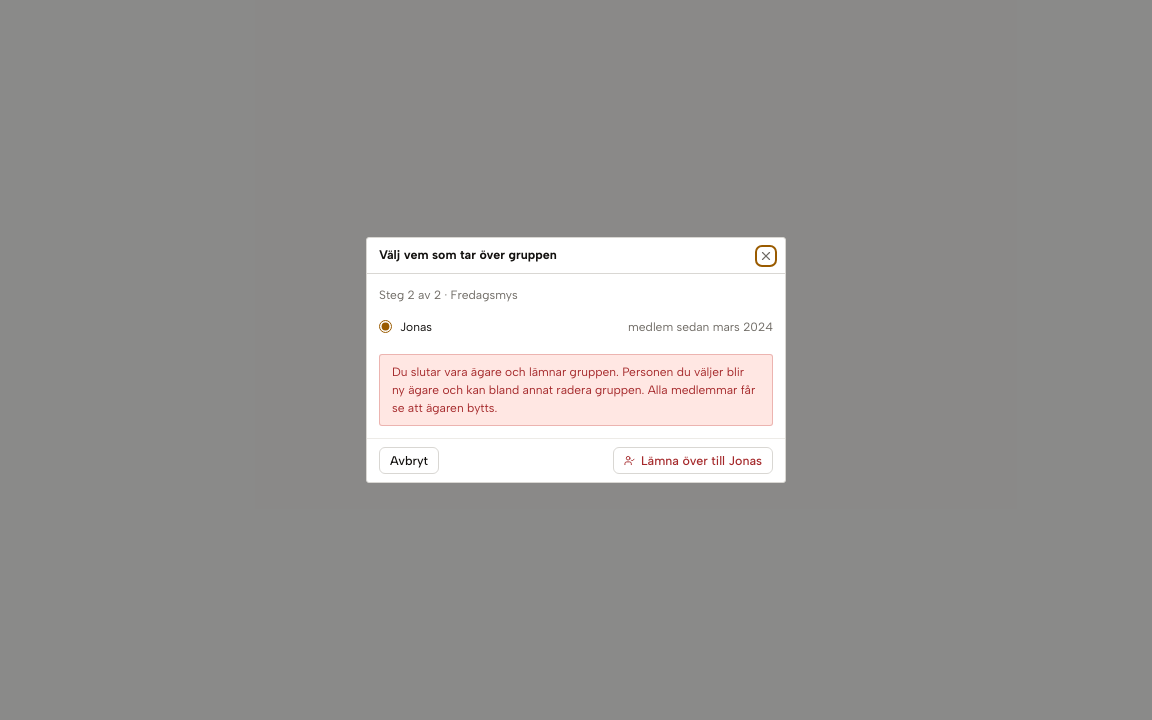
Test: HandOverGroupDialog › skicka-knappen blir inte klickbar igen medan navigeringen pågår
Later steps or results of the test are not shown.
Click the button "Lämna över till Jonas": (693, 460) [613,447,773,474]
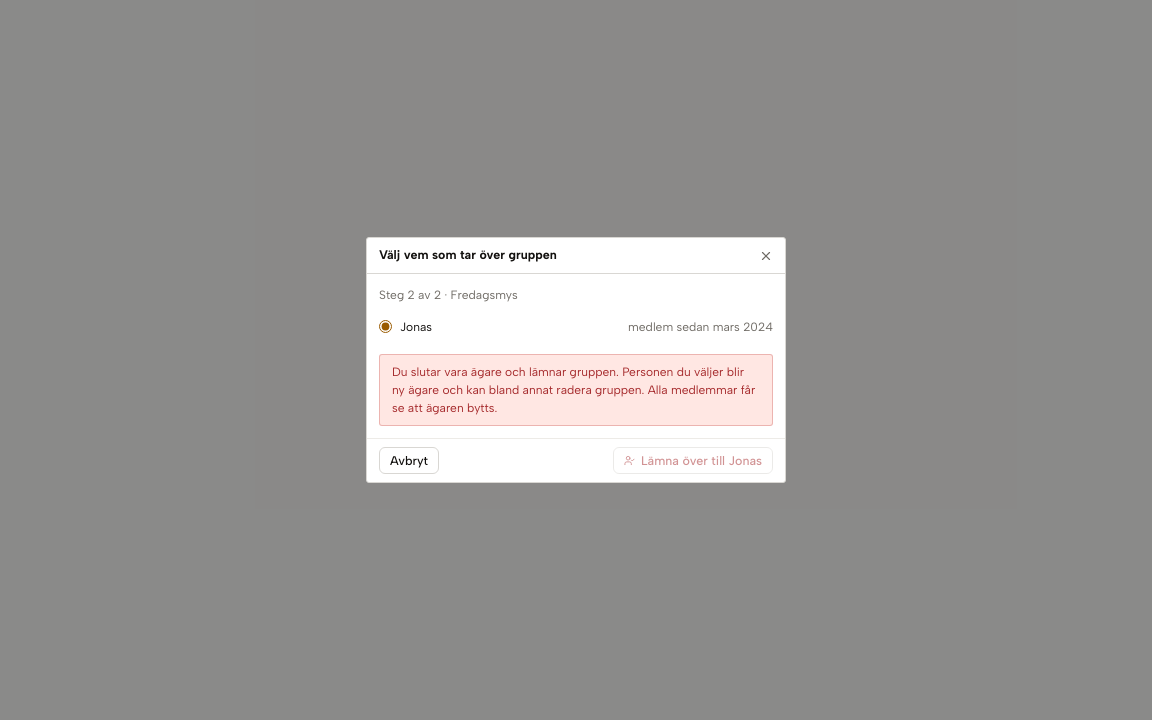
Expected: the button "Lämna över till Jonas" is disabled, [613,447,773,474]
